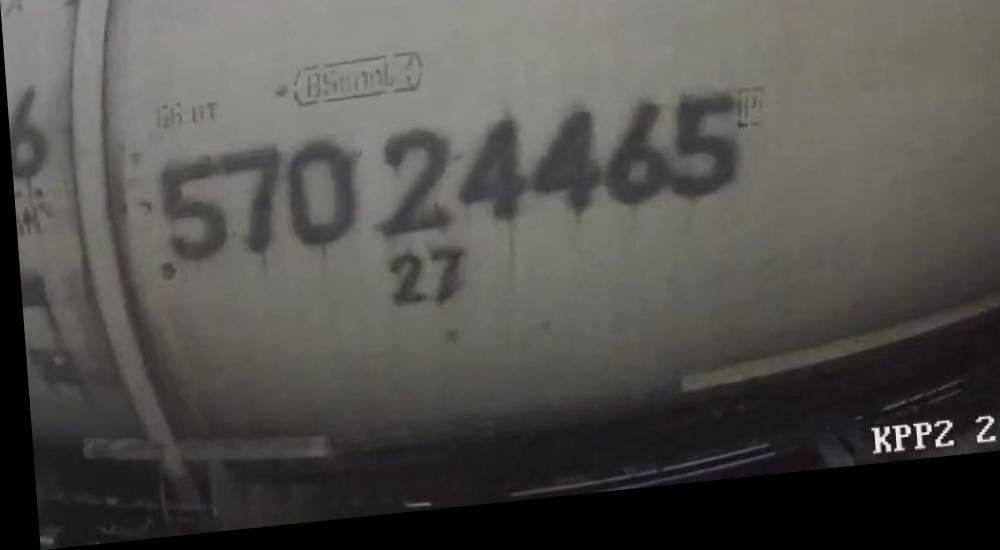Wagon-number: (156, 101, 743, 272)
